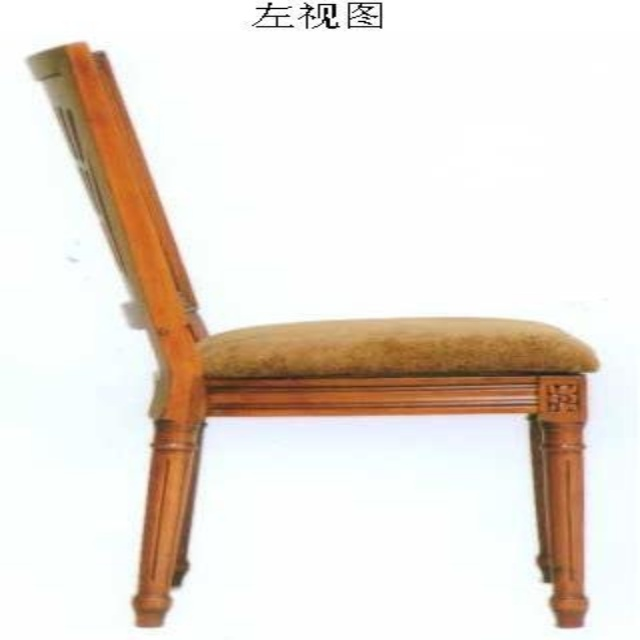obstacle: (28, 43, 596, 626)
